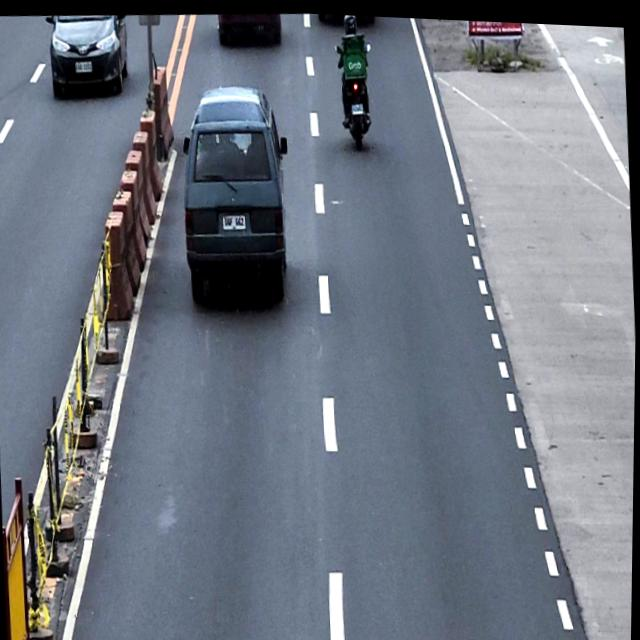Car: (177, 78, 297, 304), (44, 12, 131, 102)
License-Plate: (221, 208, 248, 230), (75, 58, 93, 74), (351, 98, 365, 112)
Motorcycle: (333, 32, 377, 147)
